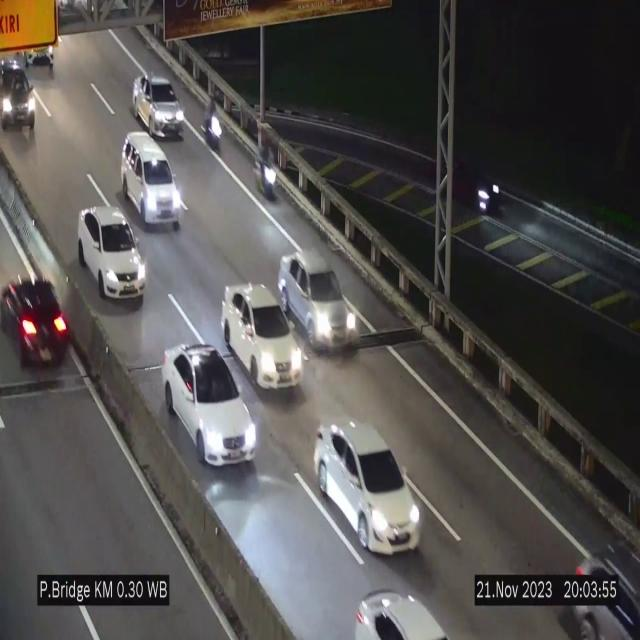Car: (314, 422, 422, 552), (163, 344, 257, 465), (279, 240, 361, 352), (0, 250, 70, 380), (221, 285, 305, 391), (78, 204, 146, 300), (121, 132, 183, 228), (0, 56, 41, 139), (132, 74, 184, 138), (202, 88, 224, 157)
Motorcycle: (256, 128, 278, 202)
